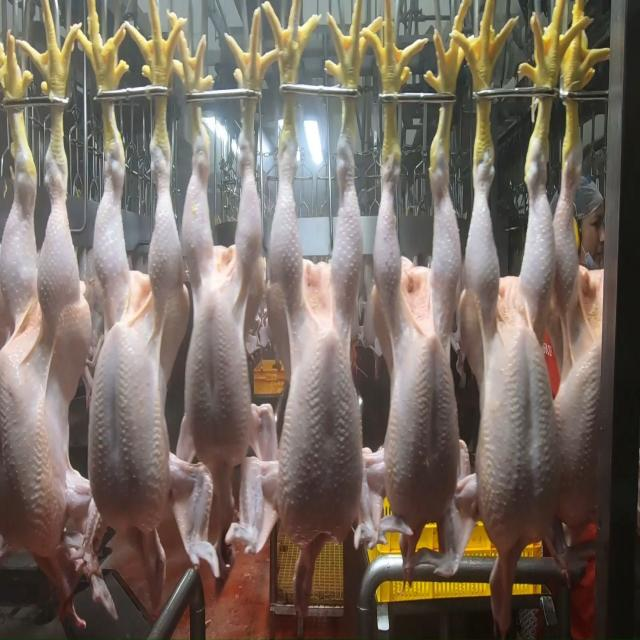chicken: (266, 180, 368, 540), (86, 174, 186, 531), (0, 174, 88, 549), (462, 205, 557, 538), (371, 193, 465, 521), (181, 171, 264, 476), (554, 171, 619, 521)
